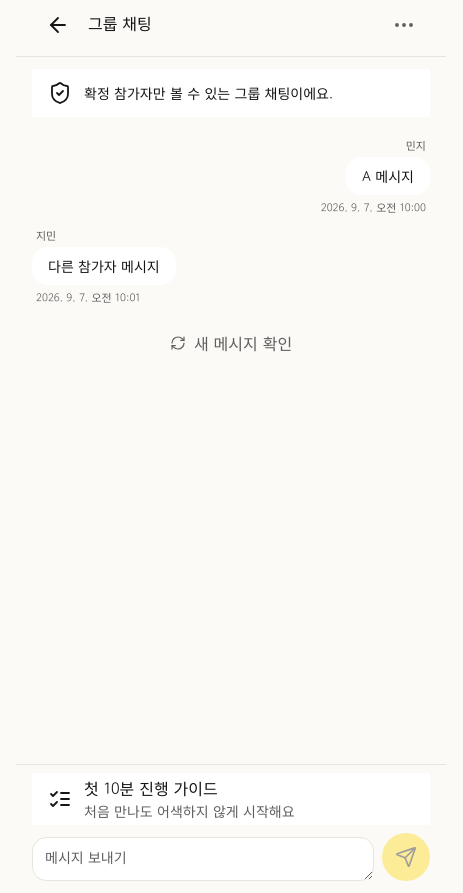
Scenario: MeetupChatPage API behavior › blocks duplicate in-flight sends
(page scrolled)
Check: the text "A 메시지" is shown, box [346,157,430,195]
Type "한 번만" into the text box named "메시지 입력" at (203, 859), box [32,837,374,881]
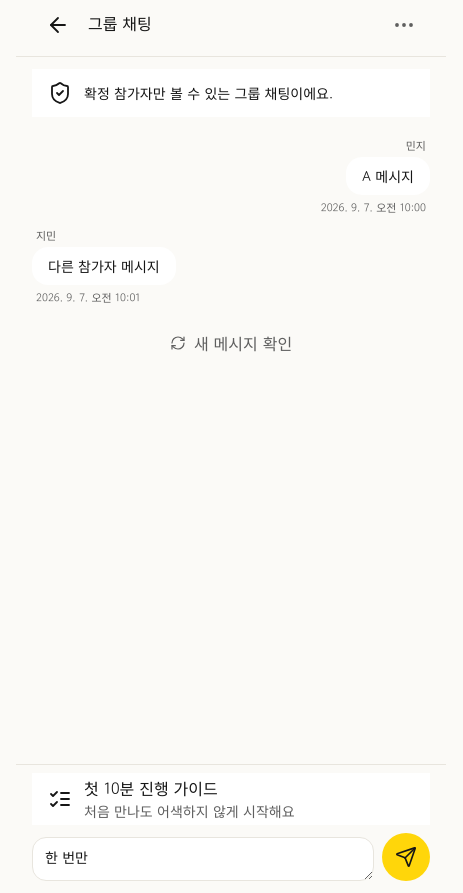
Submit the form named "메시지 보내기", box [32,833,430,881]
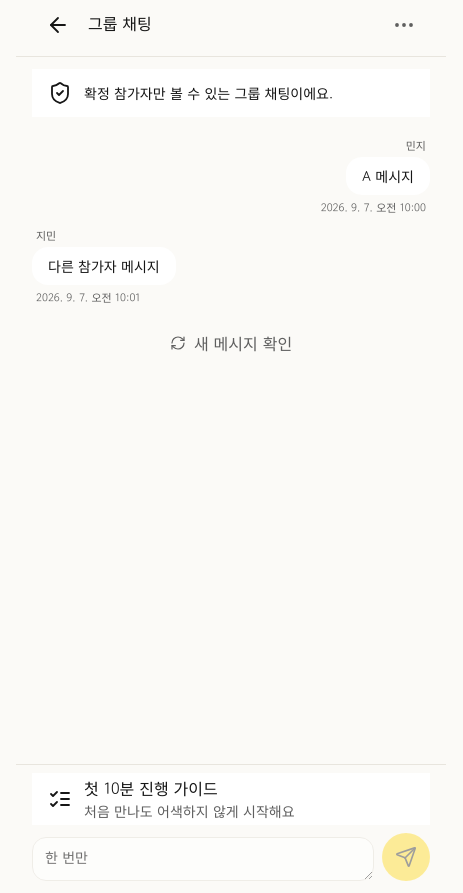
Submit the form named "메시지 보내기", box [32,833,430,881]
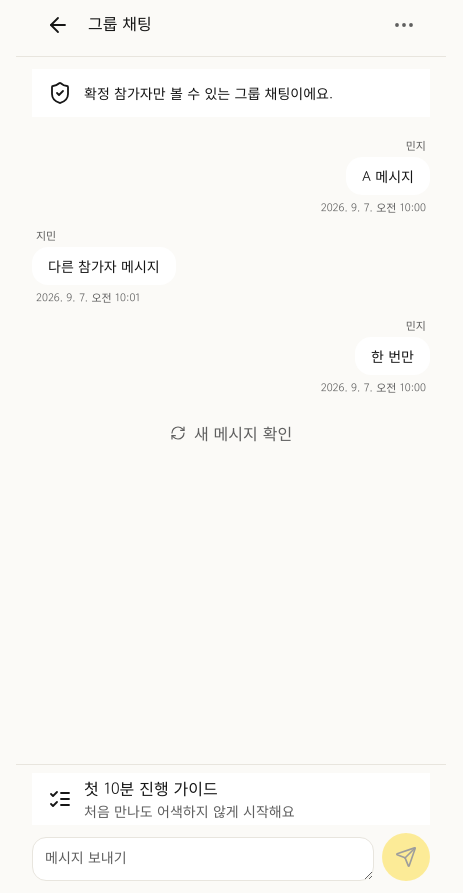
Check: the text "한 번만" is shown, box [355,337,430,375]
